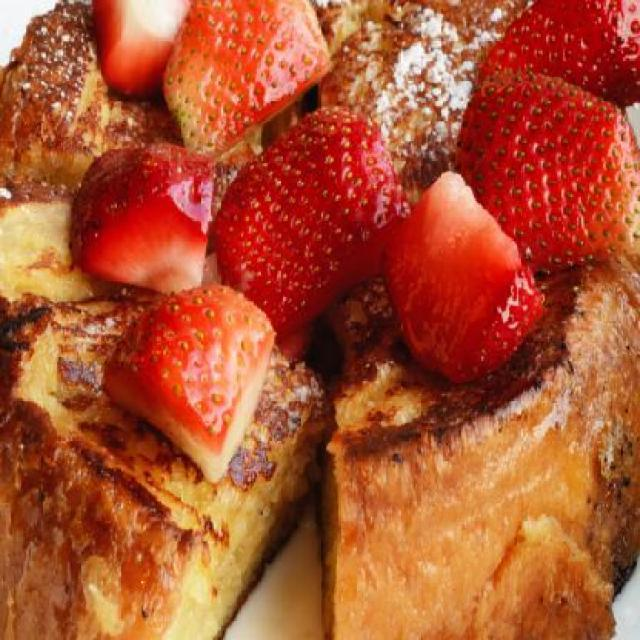Strawberry: (215, 104, 414, 338), (100, 281, 276, 487), (380, 170, 540, 392), (454, 86, 622, 283), (160, 0, 336, 171), (68, 142, 216, 293), (478, 0, 639, 109), (88, 0, 196, 103)
